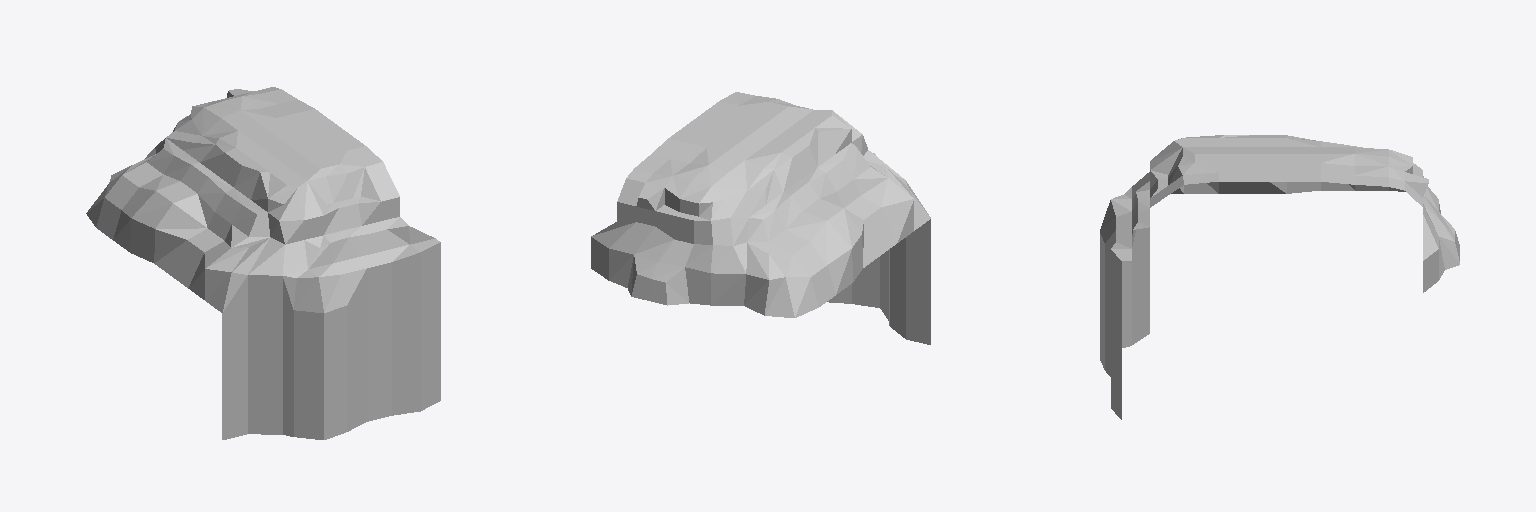
The model's file is mLv1Mountain02.obj.
The picture shows the model from 3 angles: view 1: azimuth 30°, elevation 25°; view 2: azimuth 150°, elevation 25°; view 3: azimuth 270°, elevation 25°; orthographic projection.
Parts seen in each view (by area): view 1: mMountain05; view 2: mMountain05; view 3: mMountain05.
Part boxes in pixels (x1,y1,x2,y2): mMountain05: (86, 87, 440, 439); mMountain05: (591, 92, 930, 344); mMountain05: (1100, 135, 1459, 419).
Bounding box in the file's own units: 39.31 × 40.25 × 58.24.